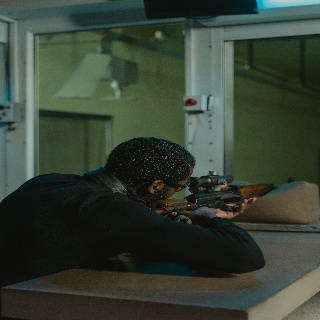rifle: (150, 170, 297, 220)
